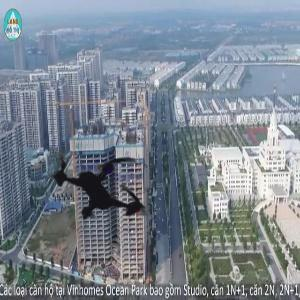drone: (4, 96, 193, 285)
